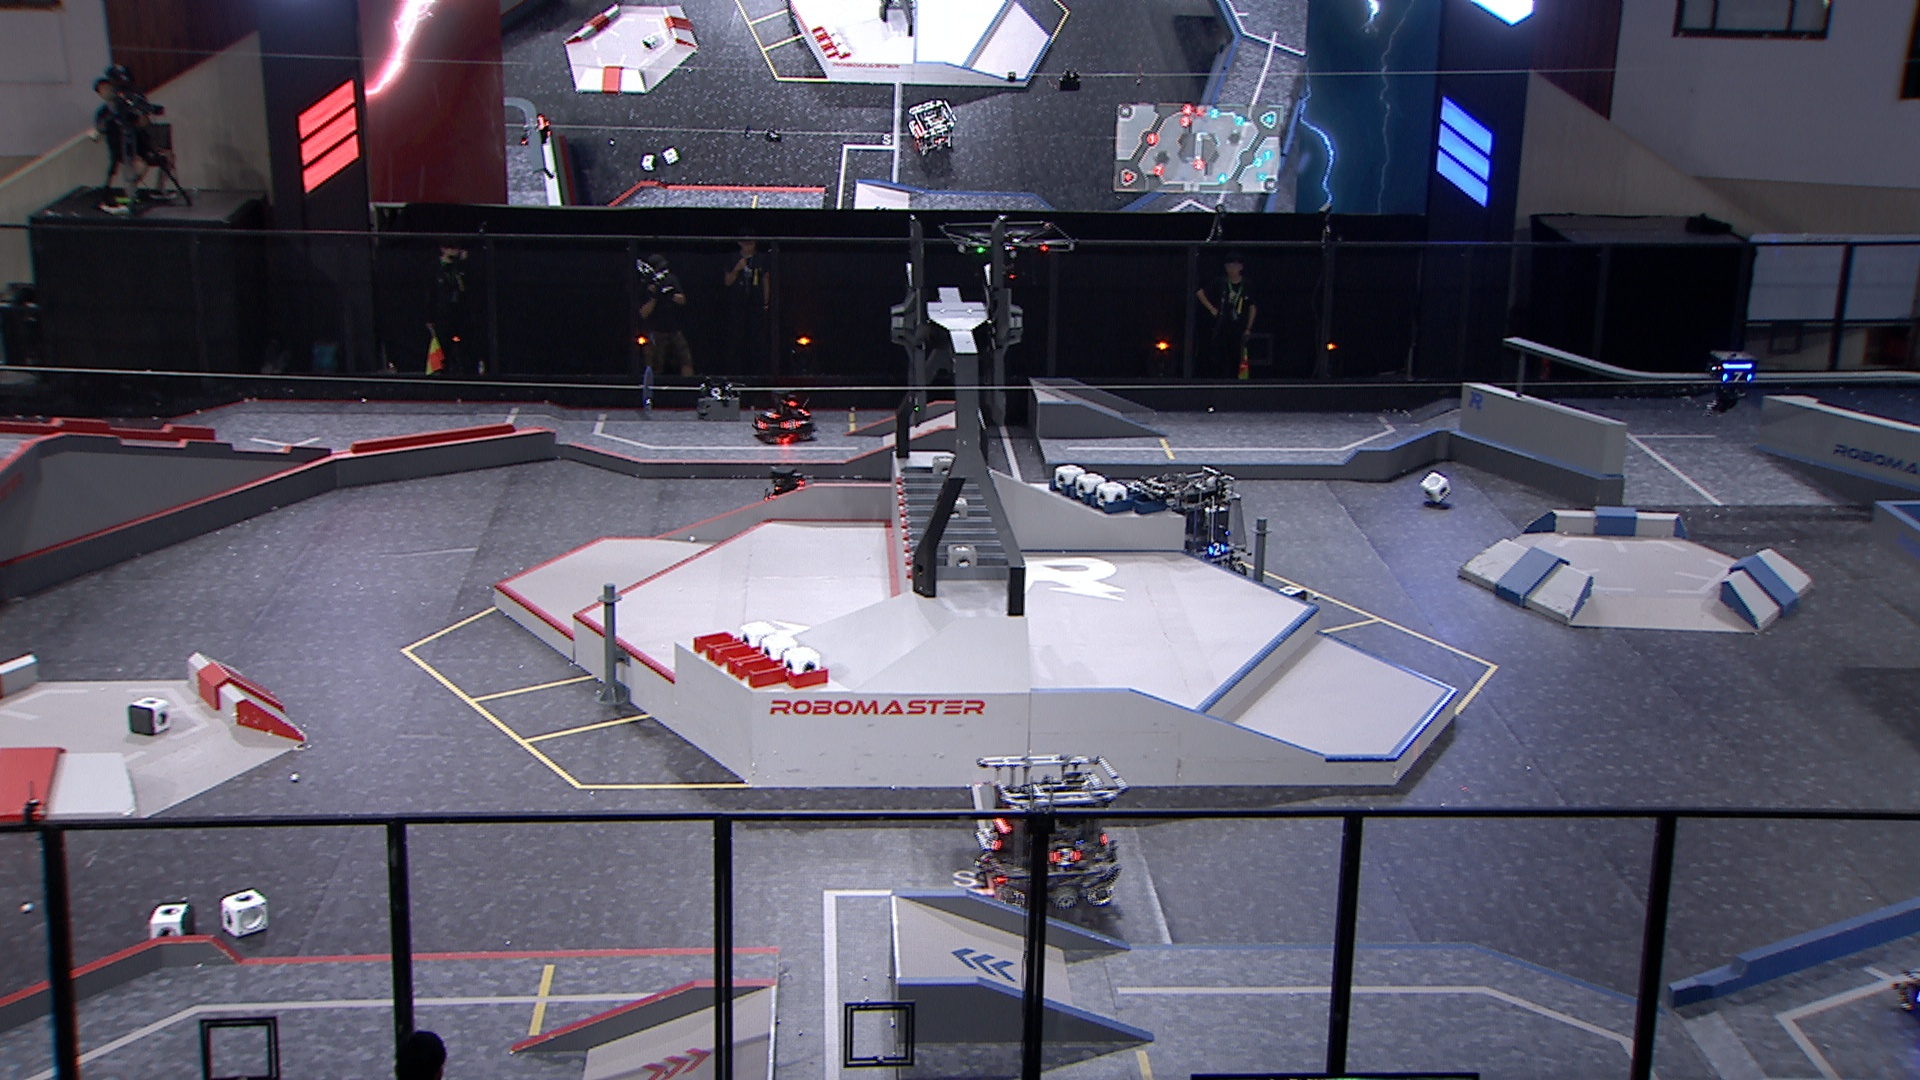armor: (1044, 847, 1081, 869), (978, 827, 1004, 855), (1720, 368, 1756, 386), (1204, 538, 1229, 559), (781, 418, 804, 433), (761, 404, 781, 419)
car: (971, 752, 1126, 909), (1141, 469, 1249, 585), (752, 385, 818, 446), (756, 465, 822, 524)
ignore: (903, 98, 960, 158)
watcher: (1702, 351, 1756, 415)
